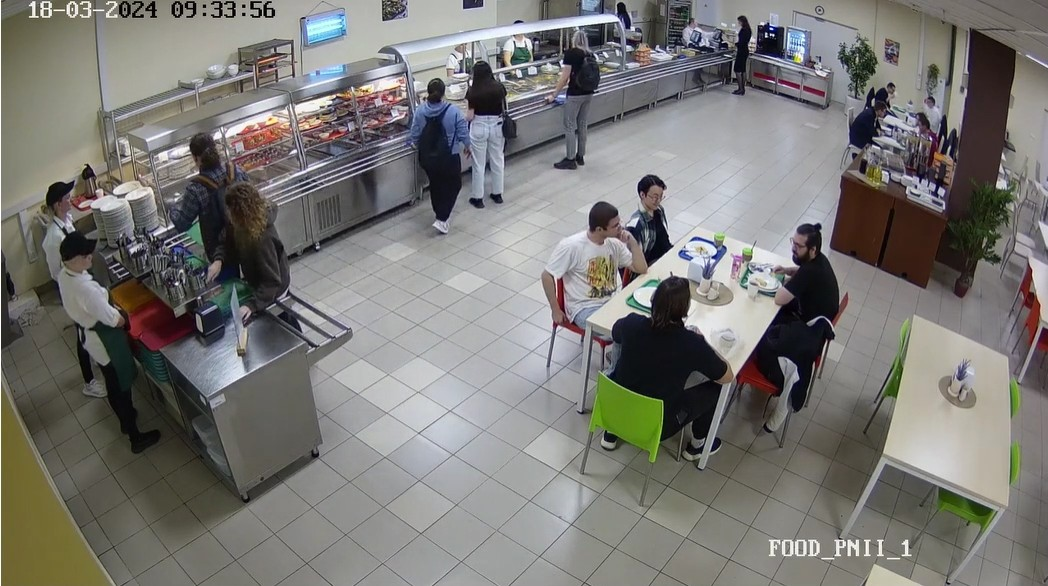Na_Kasse: (725, 13, 755, 100)
Personal: (31, 222, 262, 477), (38, 175, 86, 234), (500, 18, 537, 68), (605, 0, 638, 45), (446, 30, 477, 72), (677, 13, 709, 46)
Vybiraet: (200, 186, 300, 323), (149, 124, 242, 230), (416, 76, 463, 236), (464, 59, 511, 210), (556, 25, 594, 170)
Za_Stolom: (576, 281, 710, 479), (543, 195, 640, 363), (767, 221, 841, 315), (635, 170, 676, 246), (853, 95, 884, 161), (914, 119, 940, 160), (876, 73, 898, 115), (919, 93, 941, 115)
